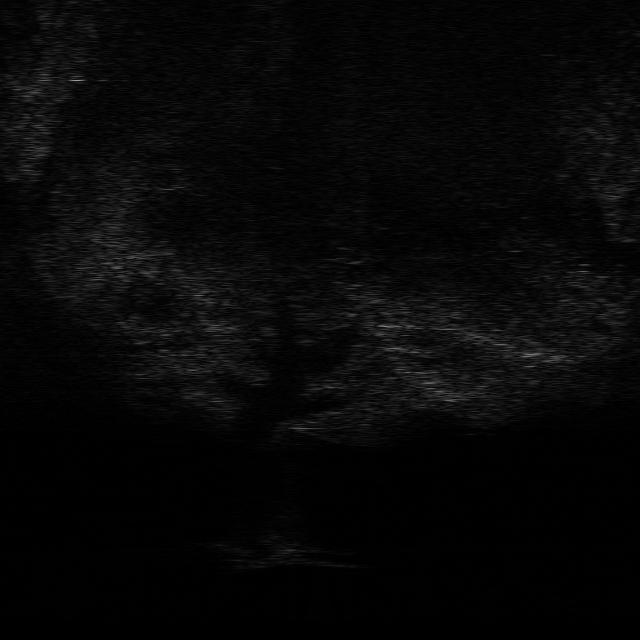plane: (212, 536, 368, 572)
